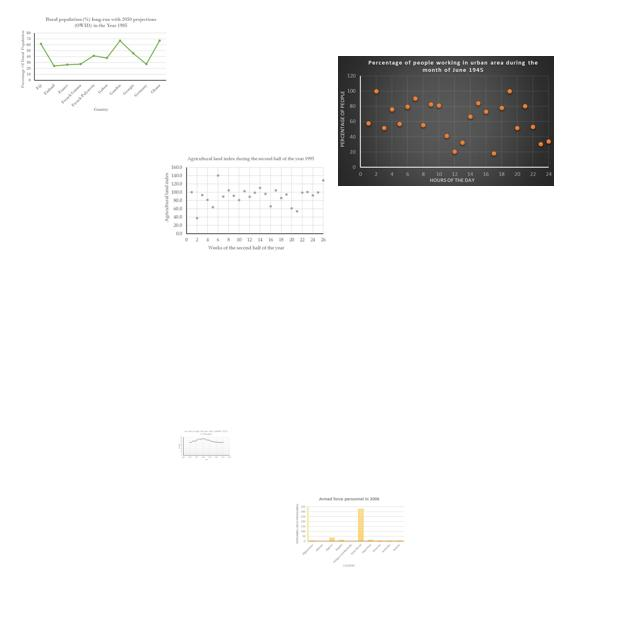Graph: (338, 56, 554, 186), (162, 154, 328, 254), (17, 14, 168, 114), (295, 496, 407, 569), (177, 429, 232, 461)
